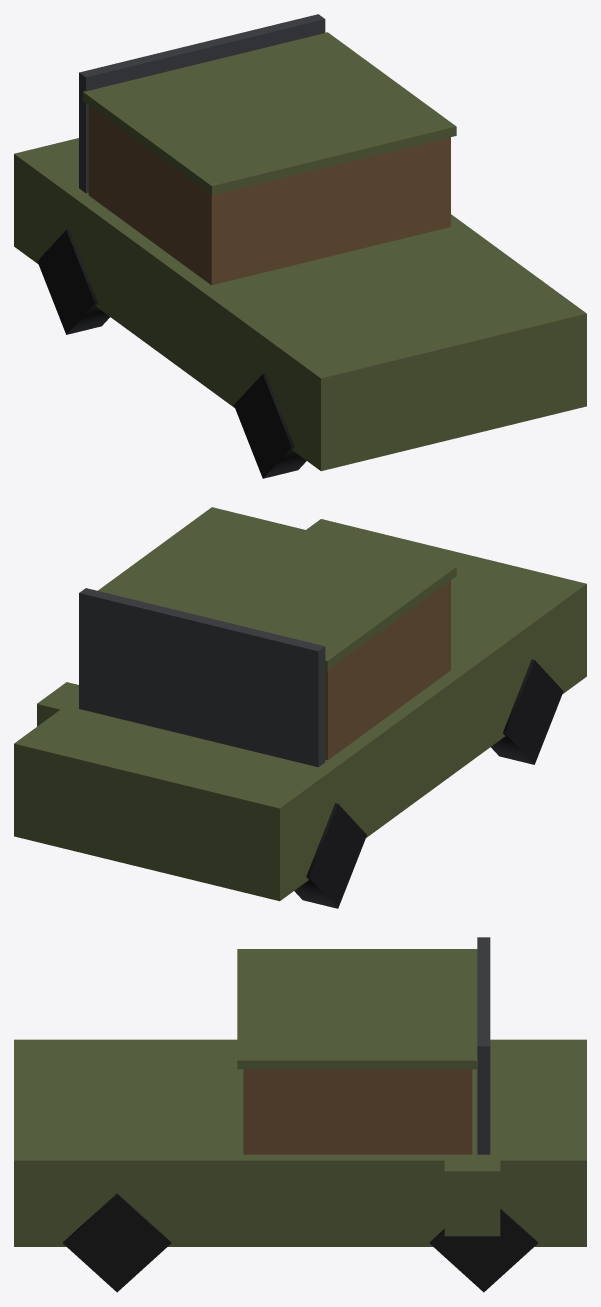
The model's file is veh_ground_jeep_a06_lod2.glb.
The picture shows the model from 3 angles, top to bottom: view 1: azimuth 30°, elevation 25°; view 2: azimuth 150°, elevation 25°; view 3: azimuth 270°, elevation 25°; orthographic projection. The views are drawn at different scales.
Visible parts, largest first — view 1: body, wheel_0, wheel_2; view 2: body, wheel_0, wheel_2; view 3: body, wheel_3, wheel_1.
Part boxes in pixels (x1=…): body: x1=14, y1=14, x2=586, y2=471; wheel_0: x1=37, y1=229, x2=109, y2=334; wheel_2: x1=234, y1=373, x2=306, y2=478; body: x1=14, y1=507, x2=586, y2=901; wheel_0: x1=294, y1=803, x2=366, y2=908; wheel_2: x1=491, y1=659, x2=563, y2=764; body: x1=14, y1=937, x2=586, y2=1246; wheel_3: x1=63, y1=1193, x2=171, y2=1292; wheel_1: x1=429, y1=1208, x2=537, y2=1292.
Size of the model in its own units: 1.98 by 1.66 by 3.6.
